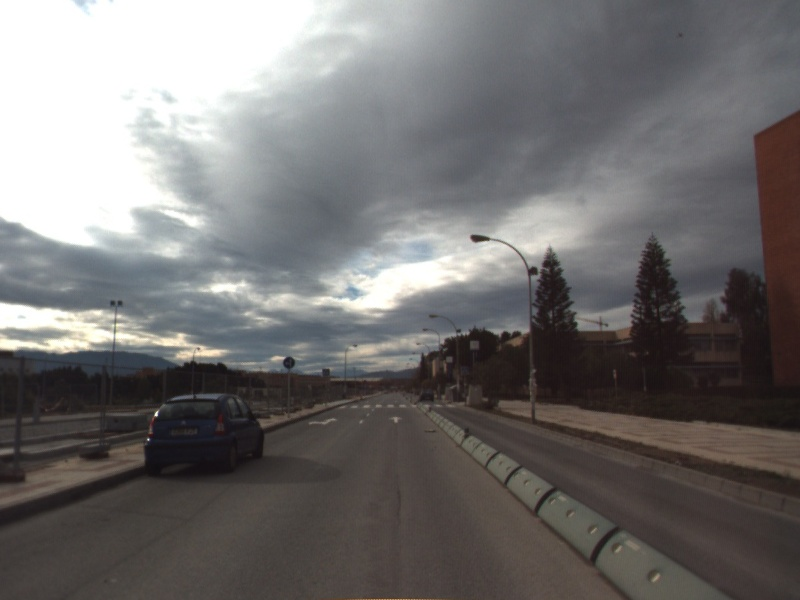STRAIGHT: (387, 414, 405, 425)
STRAIGHT_LEFT: (306, 415, 340, 427)
